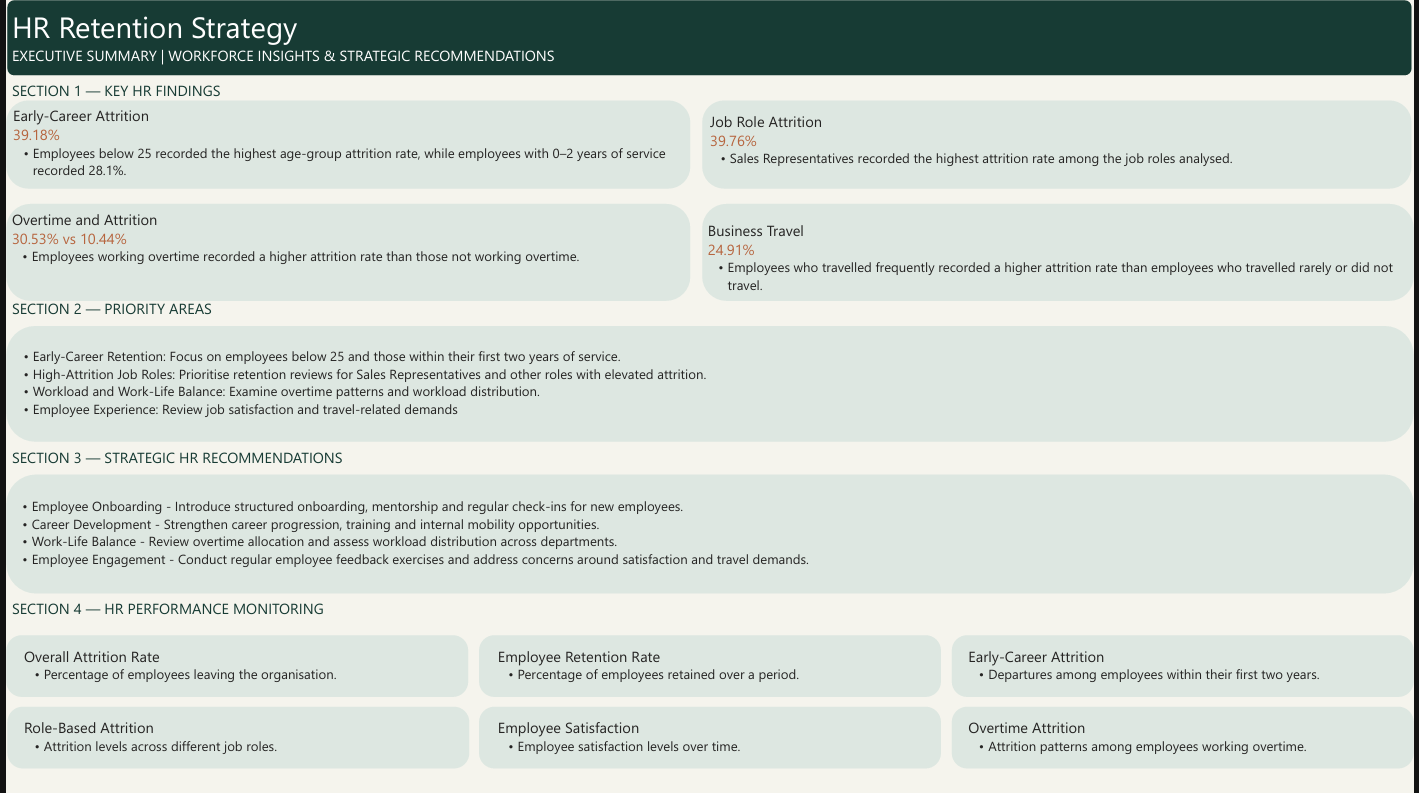

This screenshot's page, from the dashboard's own definition file:
{"tool":"powerbi","page":{"name":"HR Retention Strategy","canvas":[1280,720],"ordinal":2},"visuals":[{"type":"shape","box":[1,0,1277,68],"z":0},{"type":"textbox","box":[0,0,541,68],"z":1000},{"type":"textbox","box":[0,68,357,27],"z":2000},{"type":"shape","box":[0,185,622,88],"z":3000},{"type":"shape","box":[633,185,647,88],"z":4000},{"type":"textbox","box":[0,266,401,30],"z":5000},{"type":"shape","box":[0,296,1280,105],"z":6000},{"type":"textbox","box":[0,401,401,30],"z":7000},{"type":"shape","box":[0,431,1280,108],"z":8000},{"type":"textbox","box":[0,539,401,30],"z":9000},{"type":"shape","box":[0,577,420,56],"z":10000},{"type":"shape","box":[1,642,420,56],"z":11000},{"type":"shape","box":[430,577,420,56],"z":12000},{"type":"shape","box":[430,642,420,56],"z":13000},{"type":"shape","box":[0,91,622,80],"z":14000},{"type":"shape","box":[633,91,645,80],"z":15000},{"type":"textbox","box":[1,91,621,80],"z":16000},{"type":"textbox","box":[0,185,605,68],"z":17000},{"type":"textbox","box":[635,96,630,75],"z":18000},{"type":"textbox","box":[633,195,645,78],"z":19000},{"type":"textbox","box":[1,310,1210,78],"z":20000},{"type":"textbox","box":[0,446,1210,78],"z":21000},{"type":"shape","box":[860,577,420,56],"z":22000},{"type":"shape","box":[860,642,420,56],"z":23000},{"type":"textbox","box":[11,582,381,46],"z":24000},{"type":"textbox","box":[11,647,381,46],"z":25000},{"type":"textbox","box":[442,582,381,46],"z":26000},{"type":"textbox","box":[870,582,381,46],"z":27000},{"type":"textbox","box":[442,647,381,46],"z":28000},{"type":"textbox","box":[870,647,381,46],"z":29000}]}

Visuals, with their boxes in screenshot pixels (x1, y1, x2, y2), scaled from the page's 1280x720 canvas onto the 1419x793 screenshot:
shape: box=[1, 0, 1417, 75]
textbox: box=[0, 0, 600, 75]
textbox: box=[0, 75, 396, 105]
shape: box=[0, 204, 690, 301]
shape: box=[702, 204, 1418, 301]
textbox: box=[0, 293, 445, 326]
shape: box=[0, 326, 1418, 442]
textbox: box=[0, 442, 445, 475]
shape: box=[0, 475, 1418, 594]
textbox: box=[0, 594, 445, 627]
shape: box=[0, 636, 466, 697]
shape: box=[1, 707, 467, 769]
shape: box=[477, 636, 942, 697]
shape: box=[477, 707, 942, 769]
shape: box=[0, 100, 690, 188]
shape: box=[702, 100, 1417, 188]
textbox: box=[1, 100, 690, 188]
textbox: box=[0, 204, 671, 279]
textbox: box=[704, 106, 1402, 188]
textbox: box=[702, 215, 1417, 301]
textbox: box=[1, 341, 1343, 427]
textbox: box=[0, 491, 1341, 577]
shape: box=[953, 636, 1418, 697]
shape: box=[953, 707, 1418, 769]
textbox: box=[12, 641, 435, 692]
textbox: box=[12, 713, 435, 763]
textbox: box=[490, 641, 912, 692]
textbox: box=[964, 641, 1387, 692]
textbox: box=[490, 713, 912, 763]
textbox: box=[964, 713, 1387, 763]
